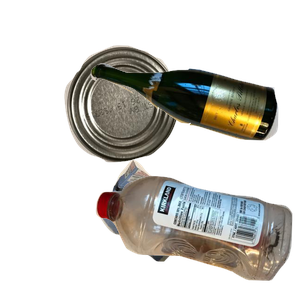glass: (88, 60, 300, 193)
metal: (62, 43, 232, 198)
plastic: (93, 173, 300, 300)
trash: (95, 157, 282, 300)
